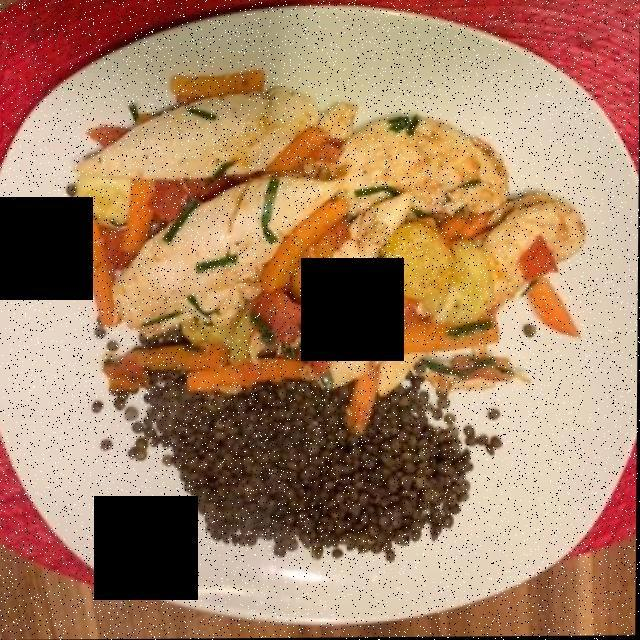chicken-breast: (70, 93, 612, 392)
mixed-vegetables: (86, 72, 568, 385)
tomato: (100, 176, 330, 365)
